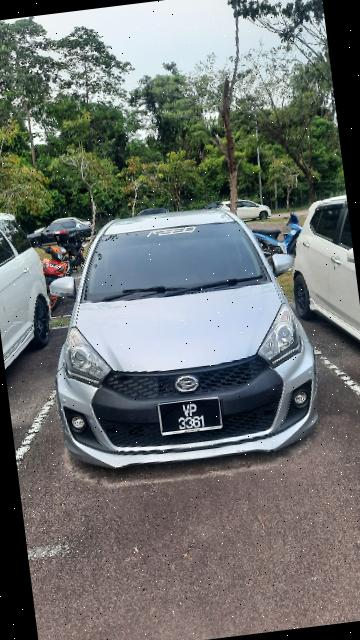License_Plate: (151, 393, 227, 442)
car: (35, 195, 332, 491)
